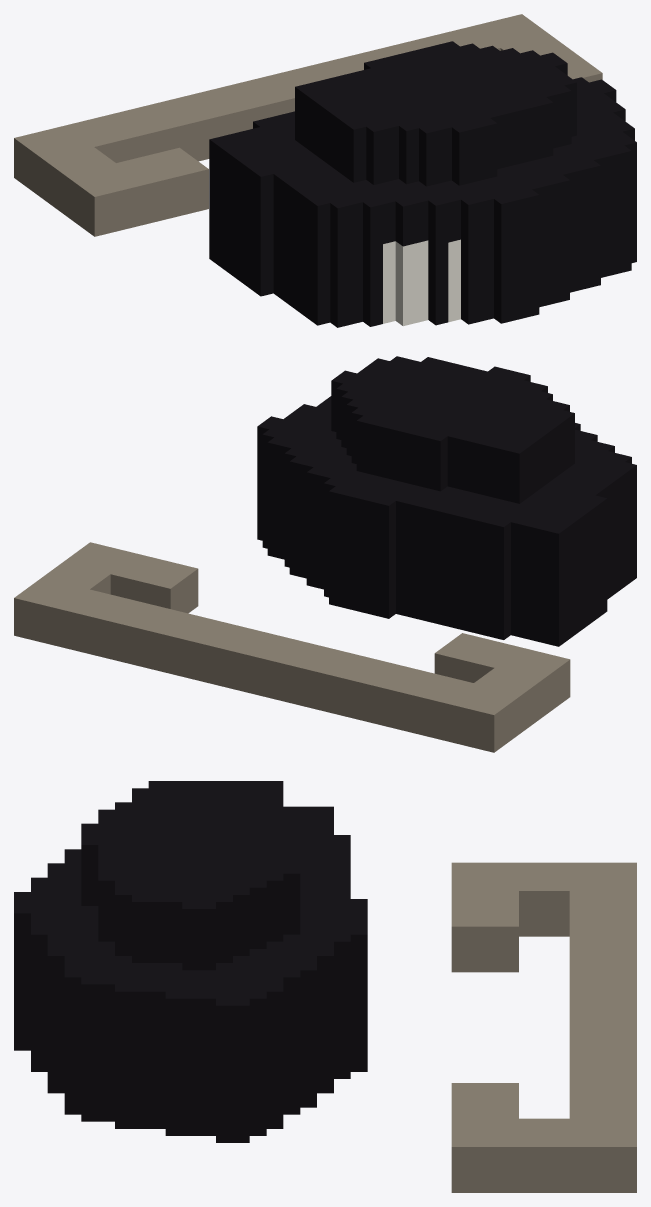
Rendered from flint_steel.glb.
3 renders of one model, top to bottom at view 1: azimuth 30°, elevation 25°; view 2: azimuth 150°, elevation 25°; view 3: azimuth 270°, elevation 25°, orthographic. The views are drawn at different scales.
Parts seen in each view (by area): view 1: flint_steel:compound; view 2: flint_steel:compound; view 3: flint_steel:compound.
Boxes of the visible parts, x1,y1,x2,y2 form: flint_steel:compound: (14,14,636,327); flint_steel:compound: (14,356,636,752); flint_steel:compound: (14,781,636,1192).
Bounding box in the file's own units: 0.08 × 0.026 × 0.074.
